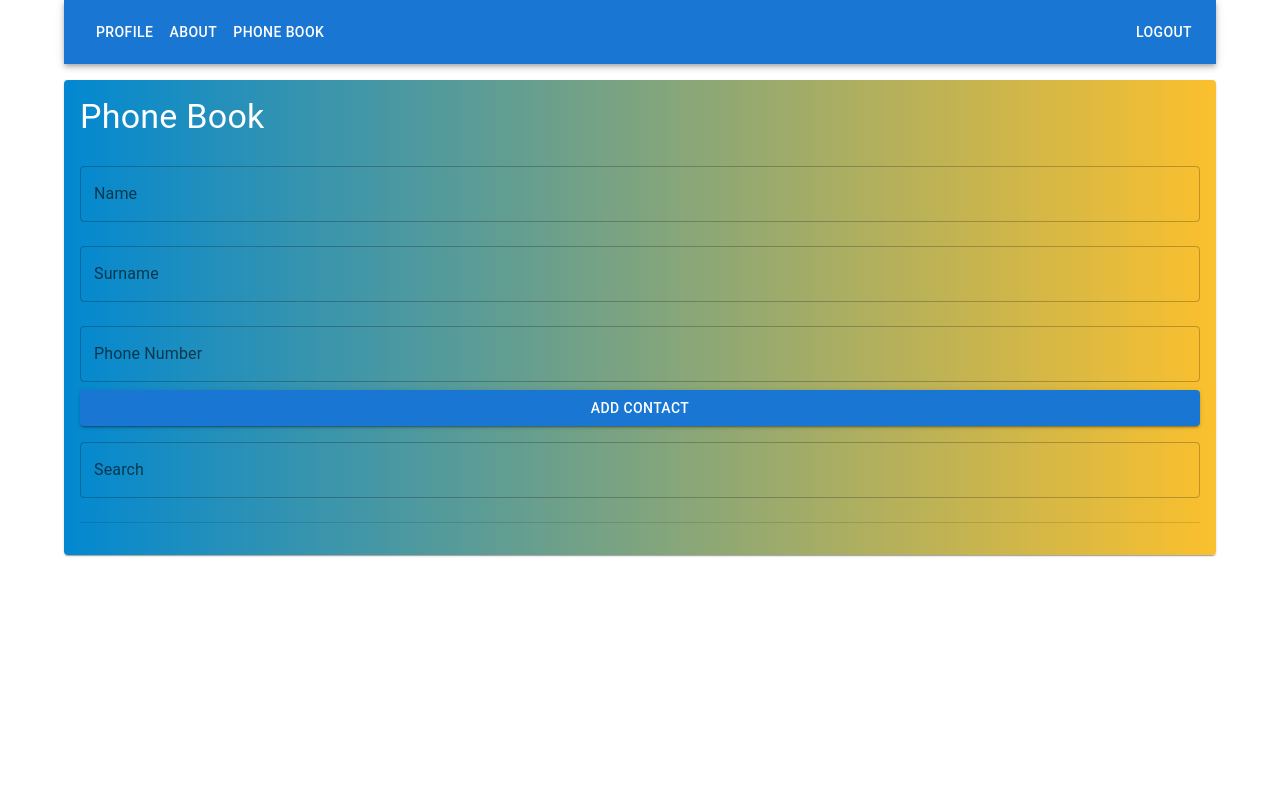
Scenario: PhoneBookPage › adds a contact
The image size is (1280, 800).
In the field with test id "name-input": (640, 194) [80, 166, 1200, 222], type "John"
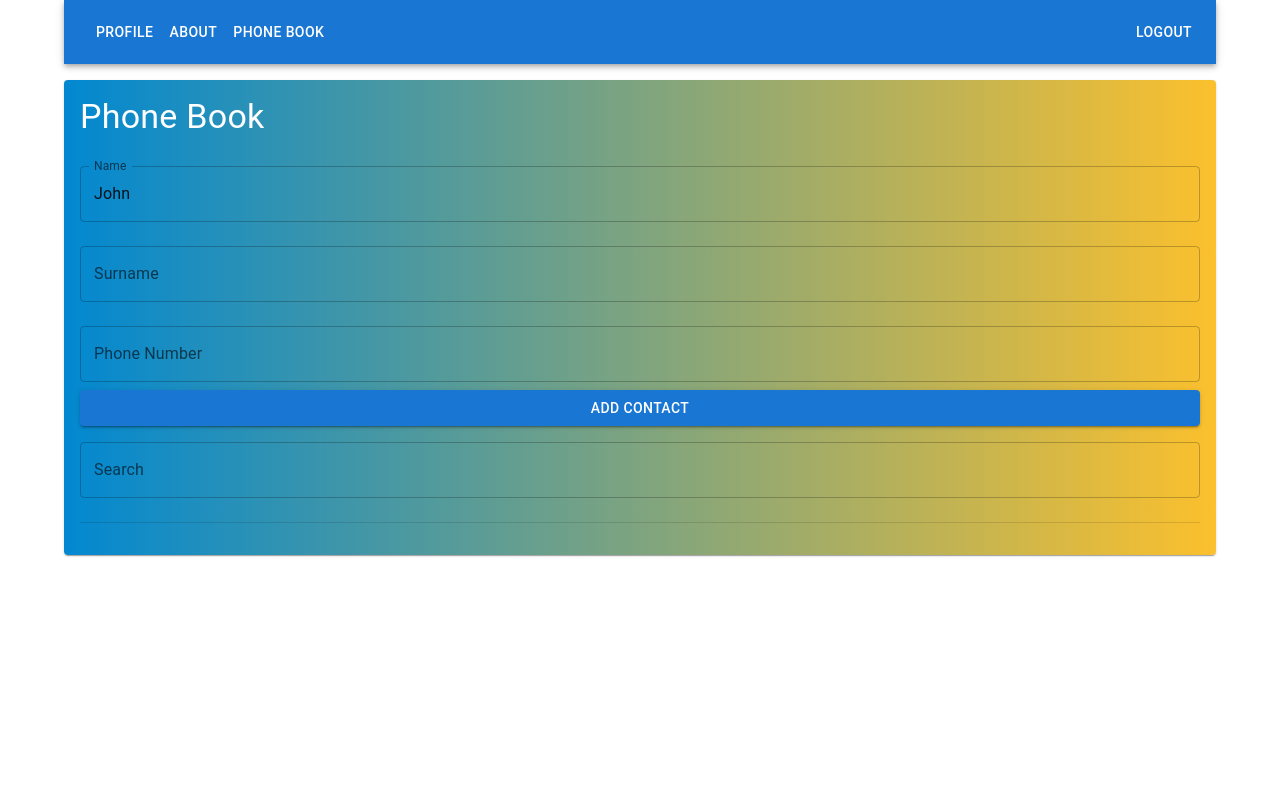
In the field with test id "surname-input": (640, 274) [80, 246, 1200, 302], type "Doe"
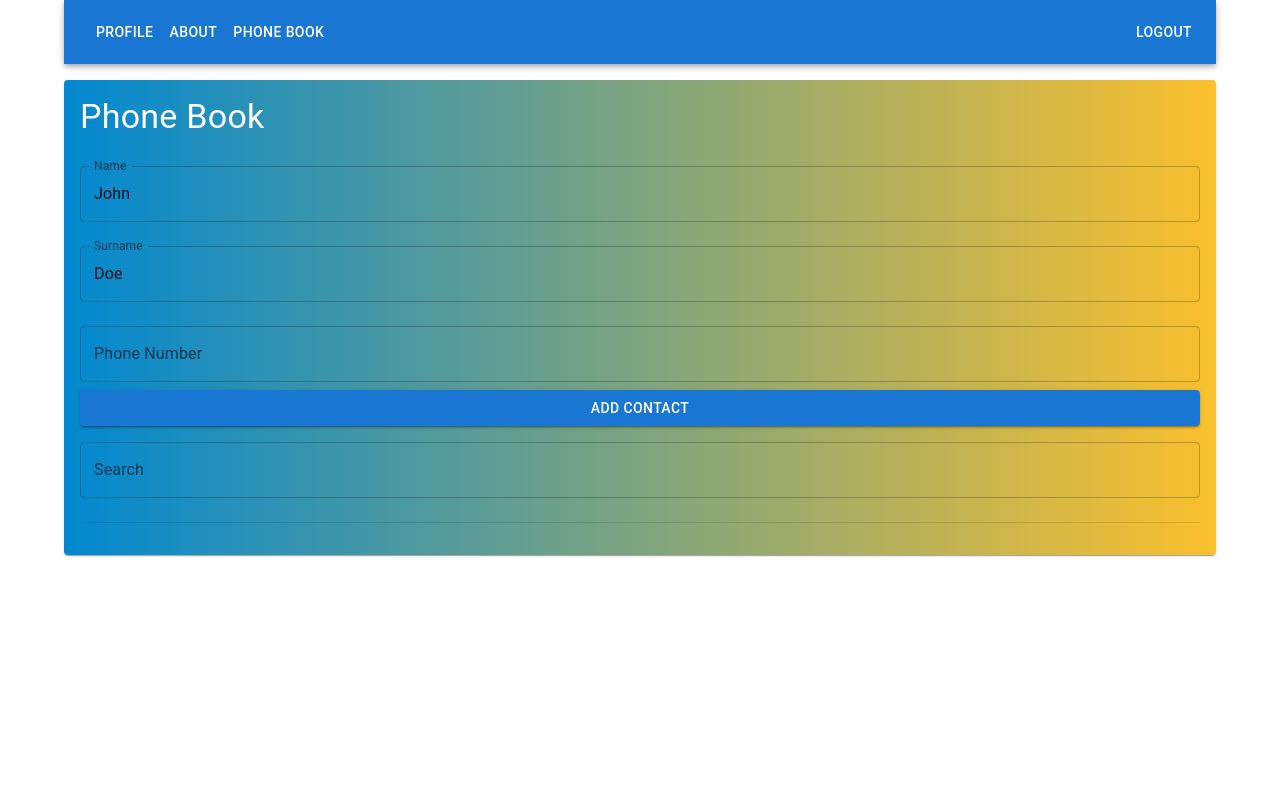
In the field with test id "phone-input": (640, 354) [80, 326, 1200, 382], type "1234567890"
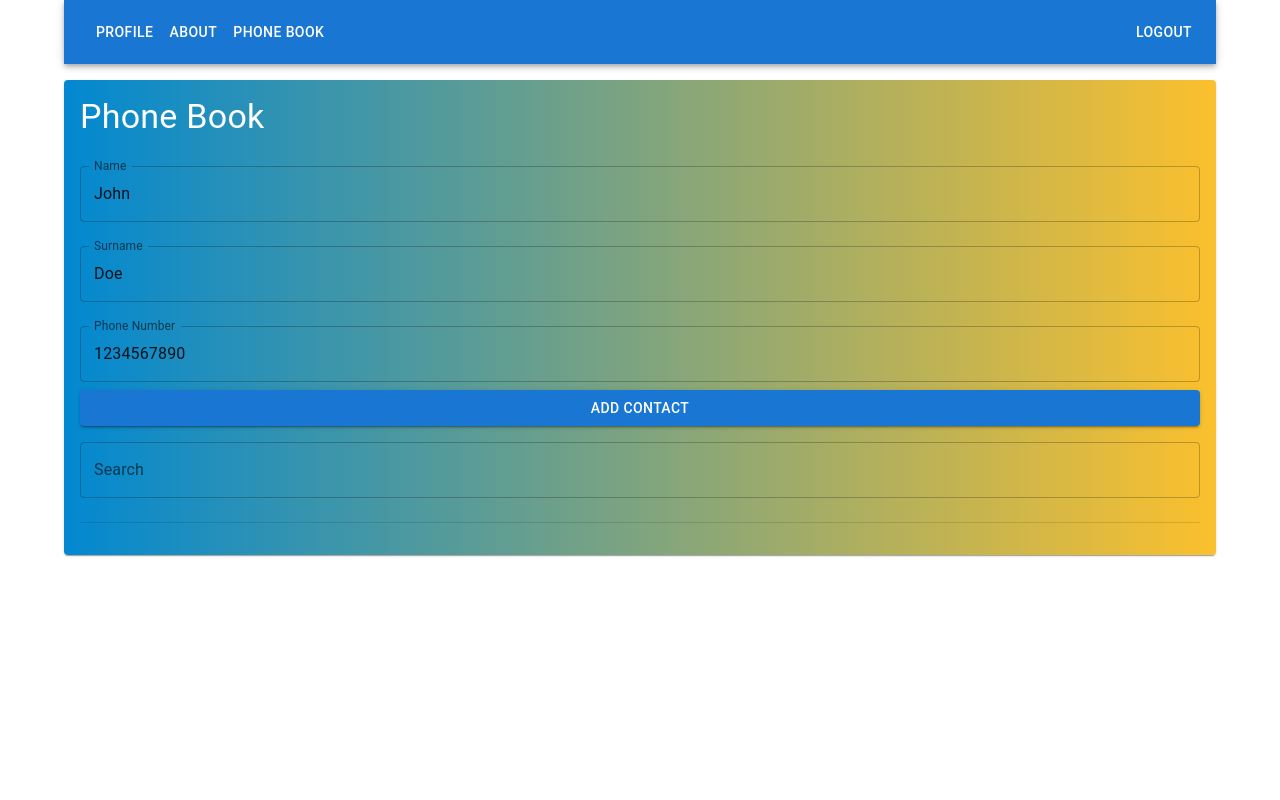
Click the button with test id "submit-button": (640, 408) [80, 390, 1200, 426]
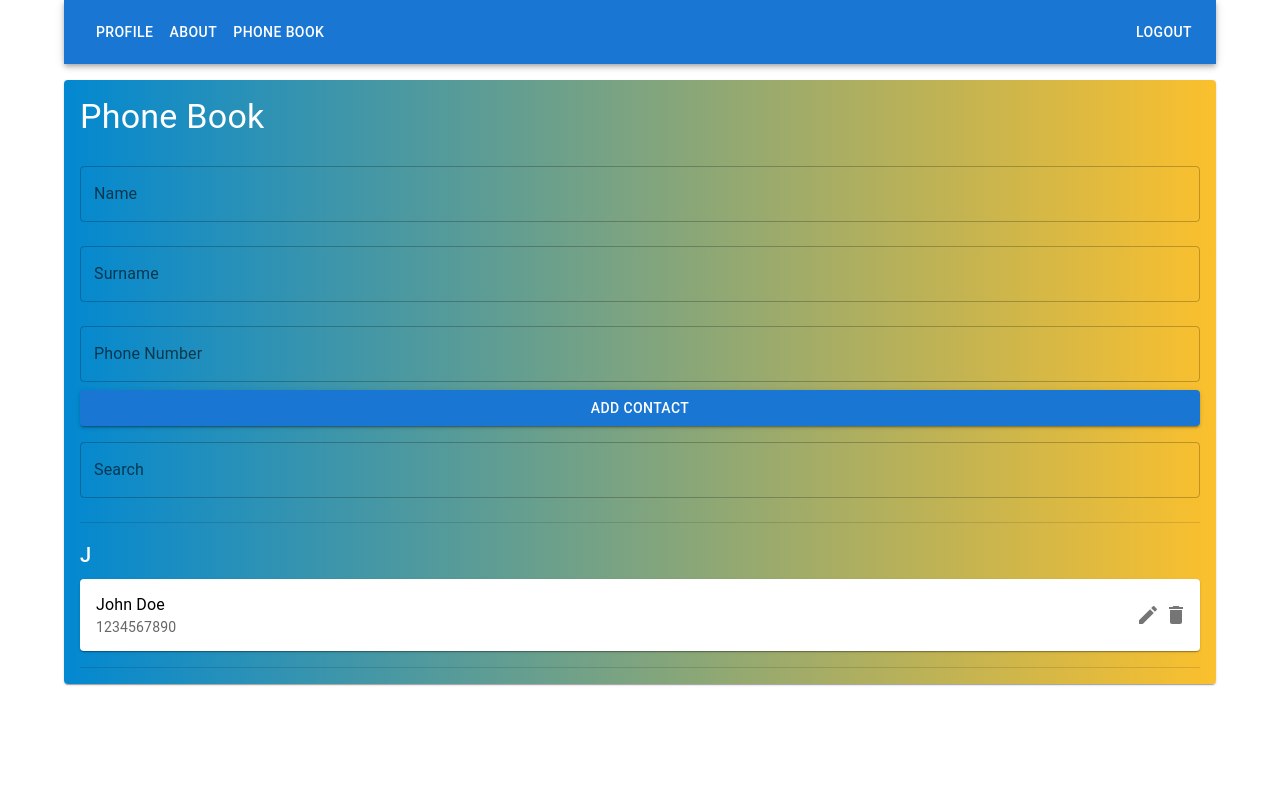
Expected: the text "John Doe" is shown, [96, 595, 165, 614]
Expected: the text "1234567890" is shown, [96, 619, 176, 635]
